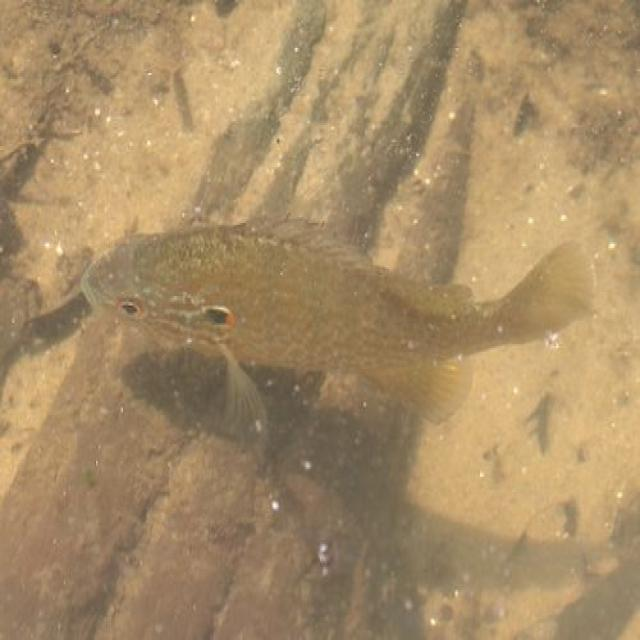Gunes Levregi: (77, 221, 618, 432)
